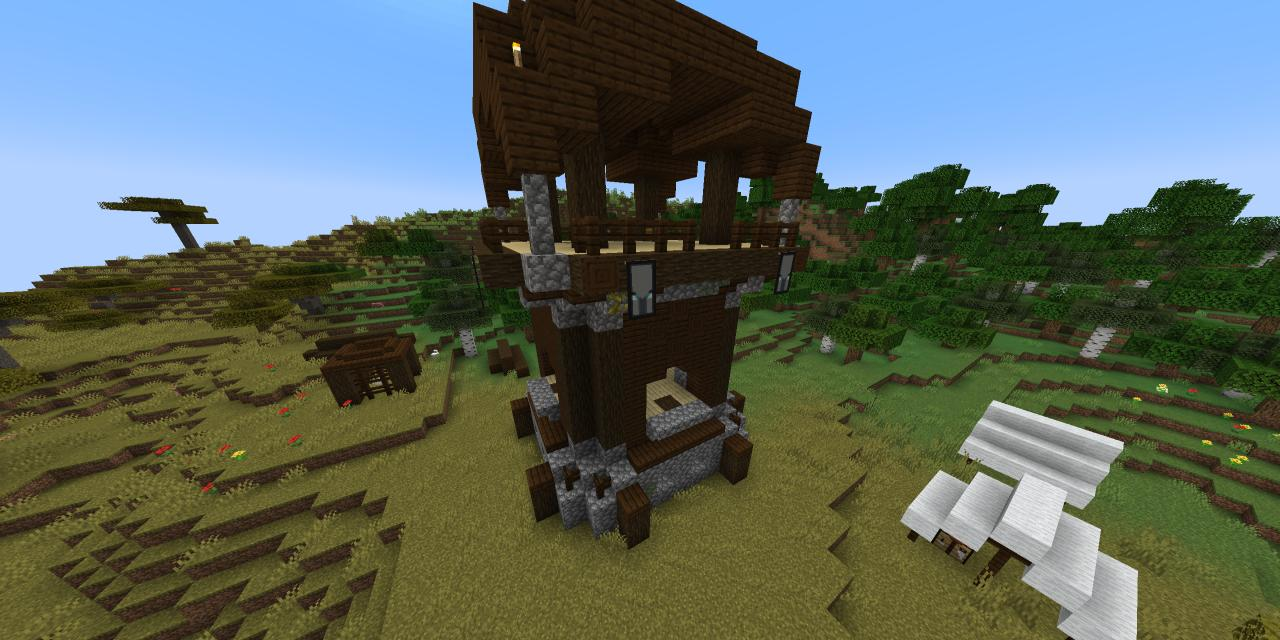pillager outpost: (457, 0, 829, 557)
